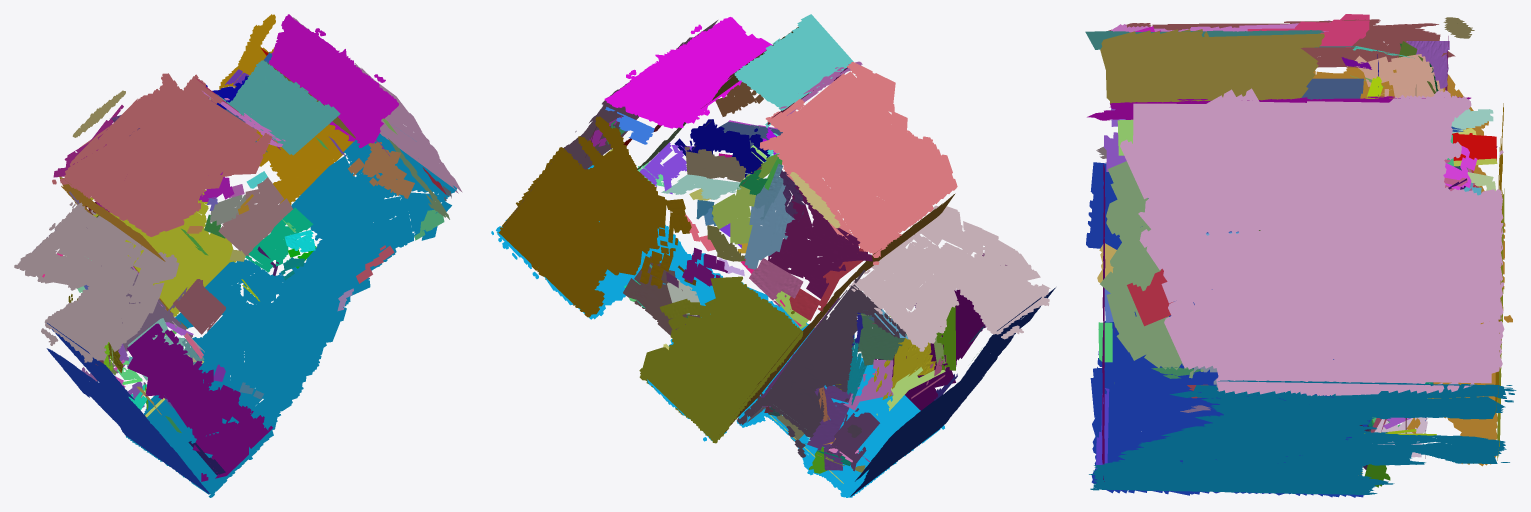
Rendered from office1_ps.glb.
3 renders of one model, left to right at view 1: azimuth 30°, elevation 25°; view 2: azimuth 150°, elevation 25°; view 3: azimuth 270°, elevation 25°, orthographic. The views are drawn at different scales.
Parts seen in each view (by area): view 1: world; view 2: world; view 3: world.
Part boxes in pixels (x1,y1,x2,y2): world: (14,14,462,497); world: (491,14,1055,497); world: (1085,14,1516,497).
Bounding box in the file's own units: 4.98 × 4.18 × 2.9.
